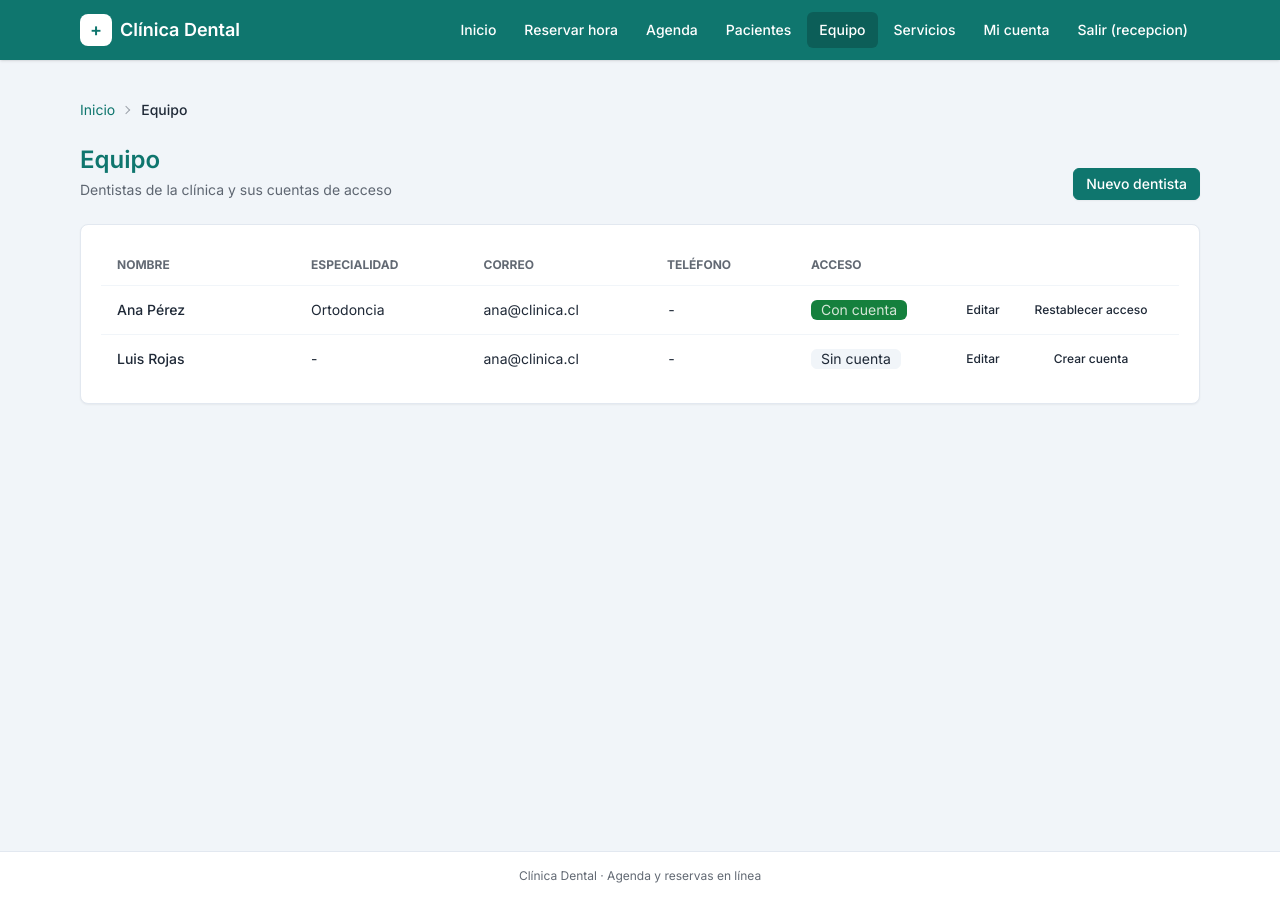
Test case: Equipo › restablece la contraseña de un dentista que ya tiene cuenta
This screenshot has width=1280, height=900.
Expected: the text "Ana Pérez" is shown, [101,286,295,334]
Click the button "Restablecer acceso" at (1091, 310), box [1019,298,1163,322]
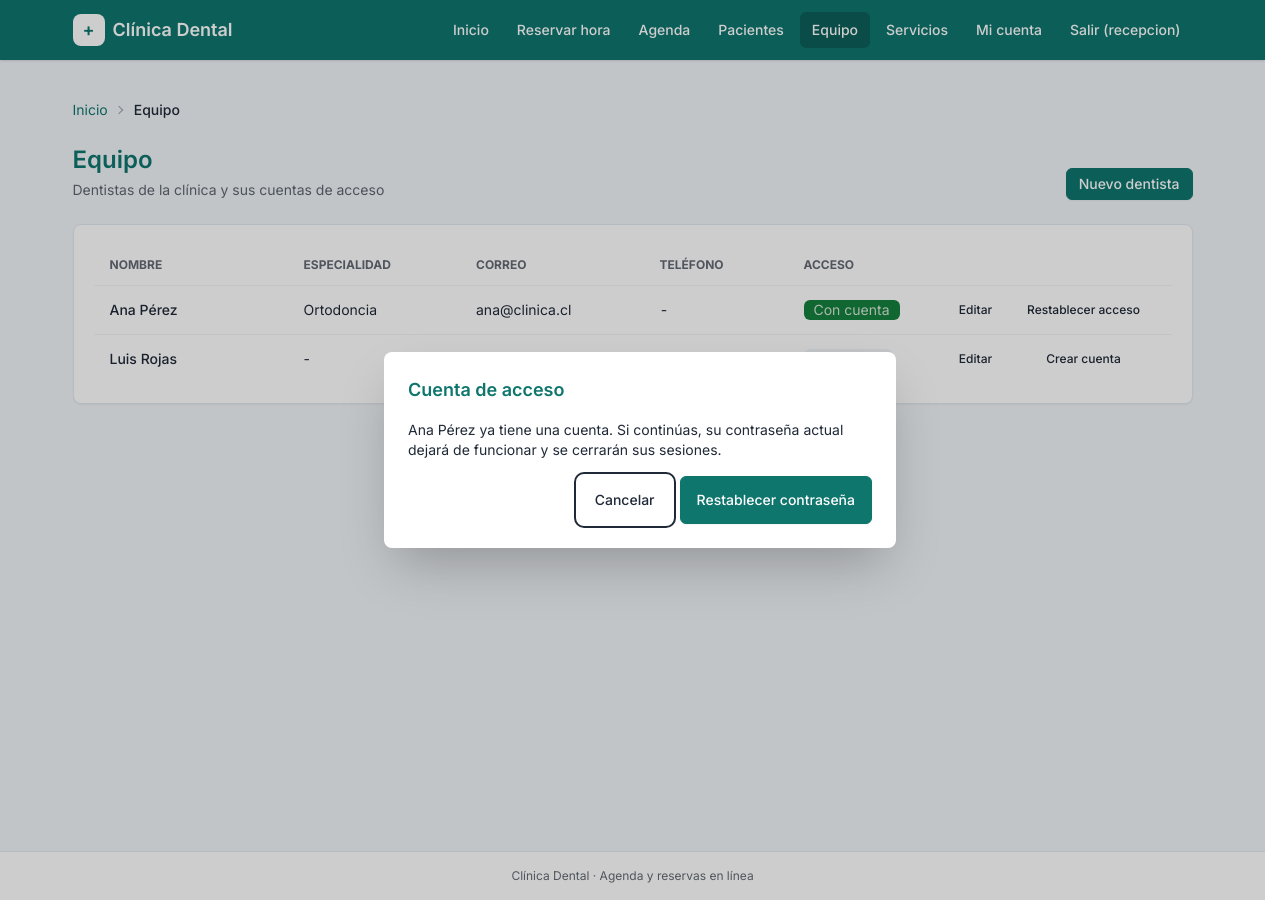
Result: the text "ya tiene una cuenta" is shown at [408,421,843,458]
Click the button "Restablecer contraseña" at (776, 500), box [680,476,872,524]
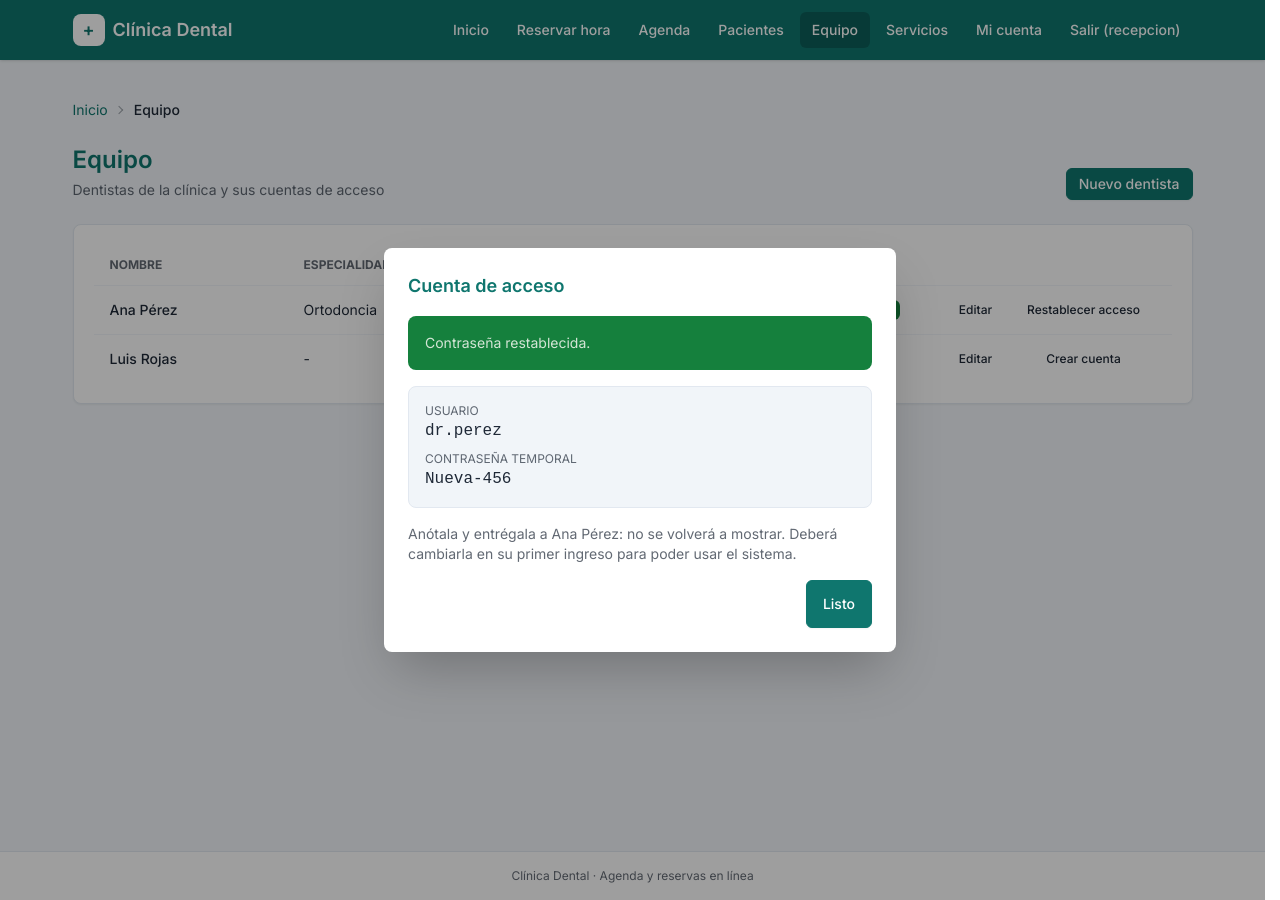
Result: the text "Contraseña restablecida." is shown at [425,333,590,353]
Result: the text "Nueva-456" is shown at [425,470,511,488]
